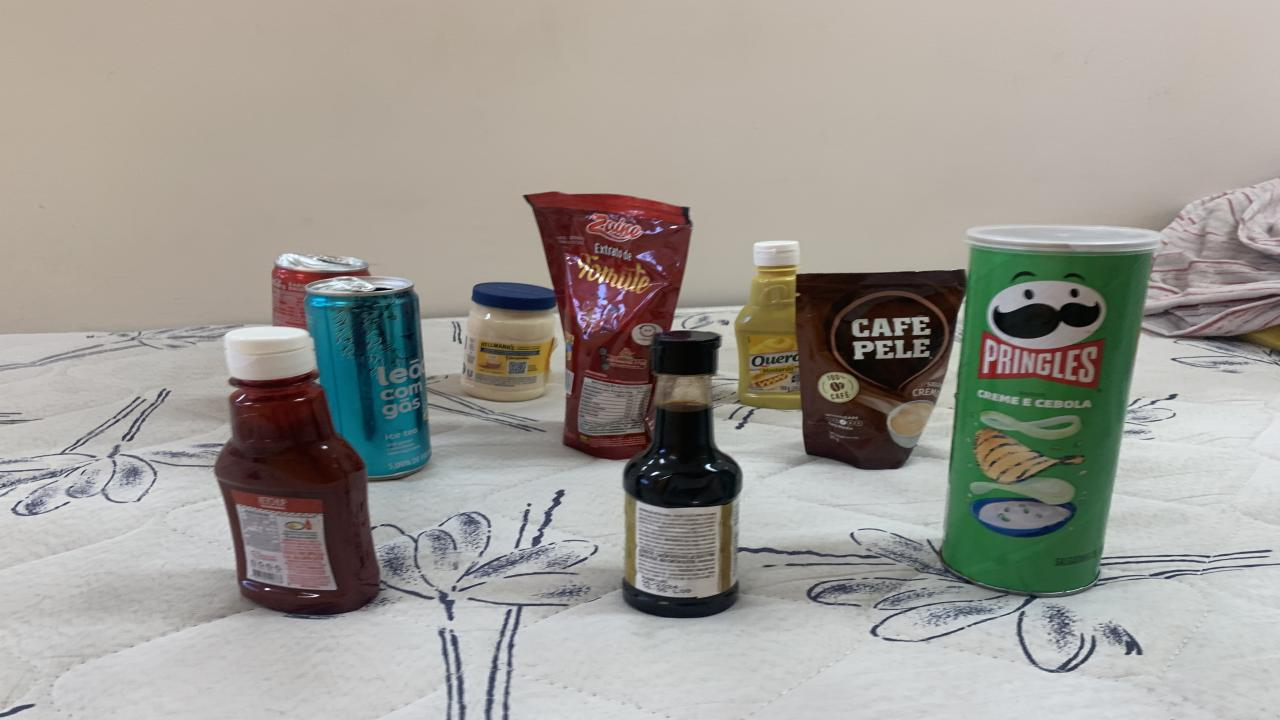Coffee-Pantry_Items: (798, 270, 965, 469)
Coke-Drinks: (272, 253, 368, 328)
English_Sauce-Pantry_Items: (622, 332, 742, 617)
Ketchup-Pantry_Items: (215, 326, 380, 615)
Mayonnaise-Pantry_Items: (462, 283, 555, 401)
Mustard-Pantry_Items: (735, 242, 800, 409)
Pringles-Snacks: (940, 225, 1160, 596)
Tea-Drinks: (305, 276, 430, 480)
Tomato_Sauce-Pantry_Items: (525, 191, 692, 459)
